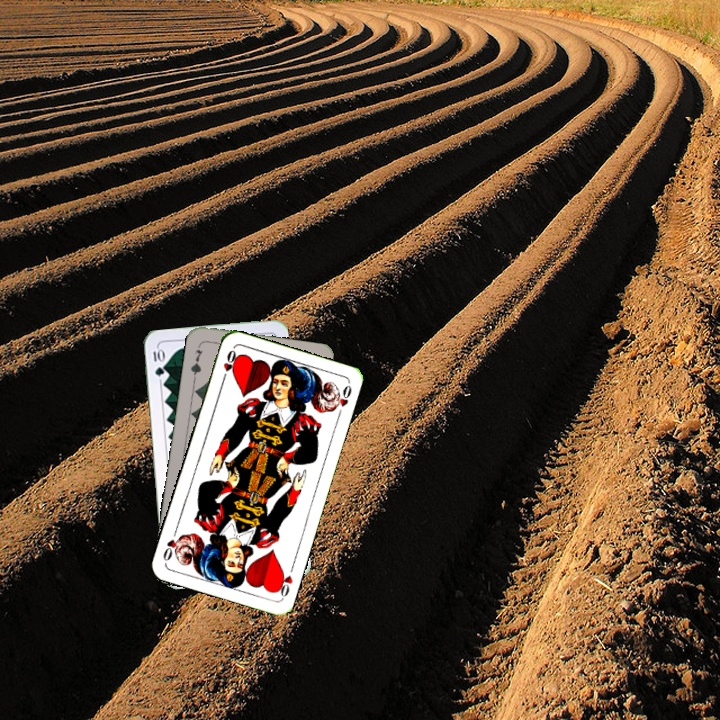G10: (149, 345, 166, 379)
G7: (186, 346, 206, 381)
HO: (272, 561, 297, 600), (218, 346, 239, 385)
